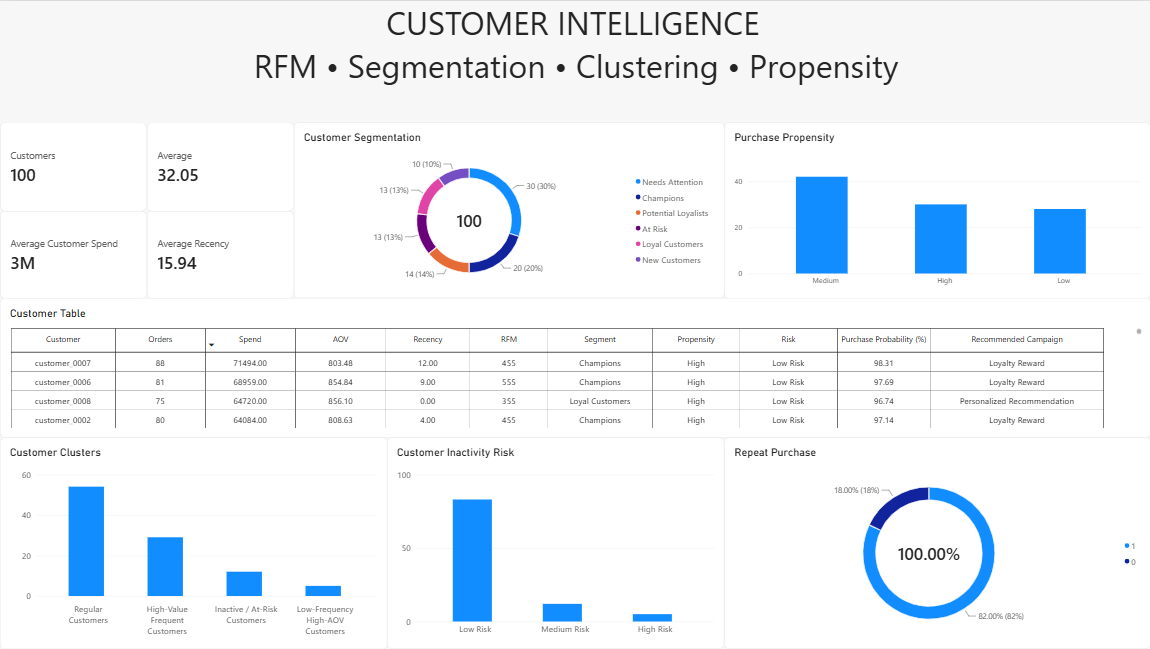

Layout of this report page (visuals, bound fields, positions):
{"tool":"powerbi","page":{"name":"Customer Intelligence","canvas":[1920,1080],"ordinal":1},"visuals":[{"type":"cardVisual","fields":{"Data":["orders_powerbi.Total Customers"]},"box":[0,202.5,244,148],"z":0},{"type":"textbox","box":[0,0,1920,182],"z":1000},{"type":"cardVisual","fields":{"Data":["Avg(customer_intelligence_final.historical_orders)"]},"box":[245,202.5,244,148],"z":2000},{"type":"cardVisual","fields":{"Data":["Sum(customer_intelligence_final.historical_spend)"]},"box":[0,350,244,146],"z":3000},{"type":"cardVisual","fields":{"Data":["Avg(customer_intelligence_final.historical_recency)"]},"box":[245,350,244,146],"z":4000},{"type":"donutChart","title":"Customer Segmentation","fields":{"Category":["customer_intelligence_final.customer_segment"],"Y":["CountNonNull(customer_intelligence_final.customer_id)"]},"box":[490,202.5,717.5,292.5],"z":5000},{"type":"clusteredColumnChart","title":"Purchase Propensity ","fields":{"Category":["customer_intelligence_final.propensity_category"],"Y":["CountNonNull(customer_intelligence_final.customer_id)"]},"box":[1208,202,712,294],"z":6000},{"type":"clusteredColumnChart","title":"Customer Inactivity Risk ","fields":{"Category":["customer_intelligence_final.inactivity_risk"],"Y":["CountNonNull(customer_intelligence_final.customer_id)"]},"box":[646,728,562,352],"z":7000},{"type":"clusteredColumnChart","title":"Customer Clusters ","fields":{"Category":["customer_intelligence_final.cluster_name"],"Y":["CountNonNull(customer_intelligence_final.customer_id)"]},"box":[0,727.5,645,352.5],"z":8000},{"type":"donutChart","title":"Repeat Purchase","fields":{"Category":["customer_intelligence_final.repeat_purchase_30d"],"Y":["CountNonNull(orders_powerbi.customer_id)"]},"box":[1208,728,712,352],"z":9000},{"type":"tableEx","title":"Customer Table","fields":{"Values":["orders_powerbi.customer_id","customer_intelligence_final.historical_orders","Avg(customer_intelligence_final.historical_spend)","orders_powerbi.Average Order Value","Avg(customer_intelligence_final.historical_recency)","customer_intelligence_final.rfm_score","customer_intelligence_final.customer_segment","customer_intelligence_final.propensity_category","customer_intelligence_final.inactivity_risk","customer_intelligence_final.purchase_probability","customer_intelligence_final.recommended_campaign"]},"box":[0,495,1920,232.5],"z":10000}]}

Visuals, with their boxes in screenshot pixels (x1, y1, x2, y2), scaled from the page's 1920x1080 canvas onto the 1150x649 screenshot:
cardVisual - orders_powerbi.Total Customers: left=0, top=122, right=146, bottom=211
textbox: left=0, top=0, right=1149, bottom=109
cardVisual - Avg(customer_intelligence_final.historical_orders): left=147, top=122, right=293, bottom=211
cardVisual - Sum(customer_intelligence_final.historical_spend): left=0, top=210, right=146, bottom=298
cardVisual - Avg(customer_intelligence_final.historical_recency): left=147, top=210, right=293, bottom=298
"Customer Segmentation" donutChart: left=293, top=122, right=723, bottom=297
"Purchase Propensity " clusteredColumnChart: left=724, top=121, right=1149, bottom=298
"Customer Inactivity Risk " clusteredColumnChart: left=387, top=437, right=724, bottom=648
"Customer Clusters " clusteredColumnChart: left=0, top=437, right=386, bottom=648
"Repeat Purchase" donutChart: left=724, top=437, right=1149, bottom=648
"Customer Table" tableEx: left=0, top=297, right=1149, bottom=437
